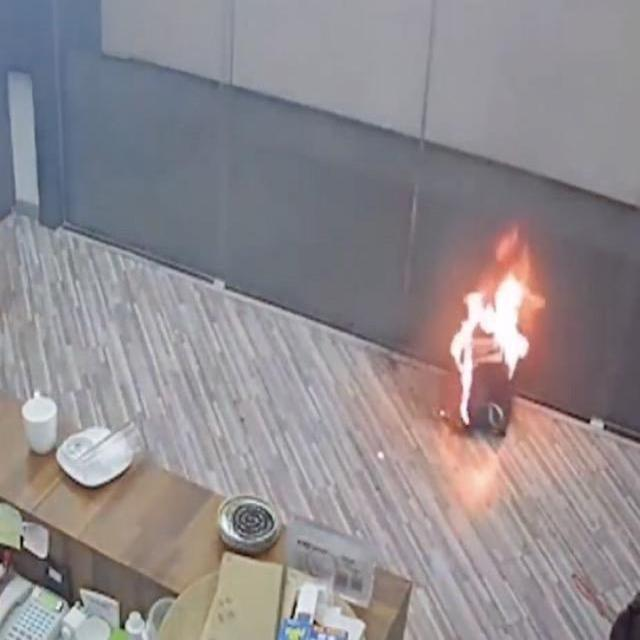smoke: (448, 227, 538, 427)
